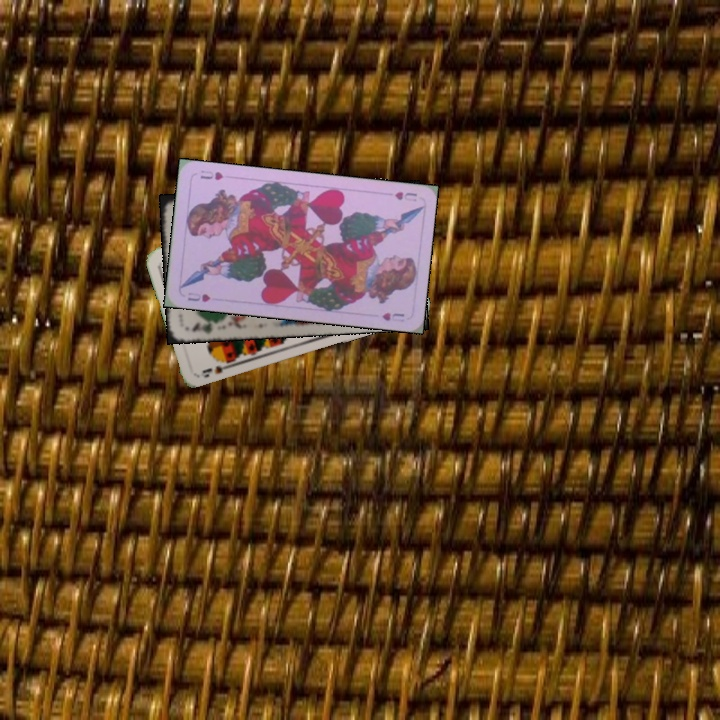GK: (187, 319, 214, 337)
HU: (183, 288, 213, 305), (391, 188, 420, 204)
S9: (198, 354, 236, 380)
